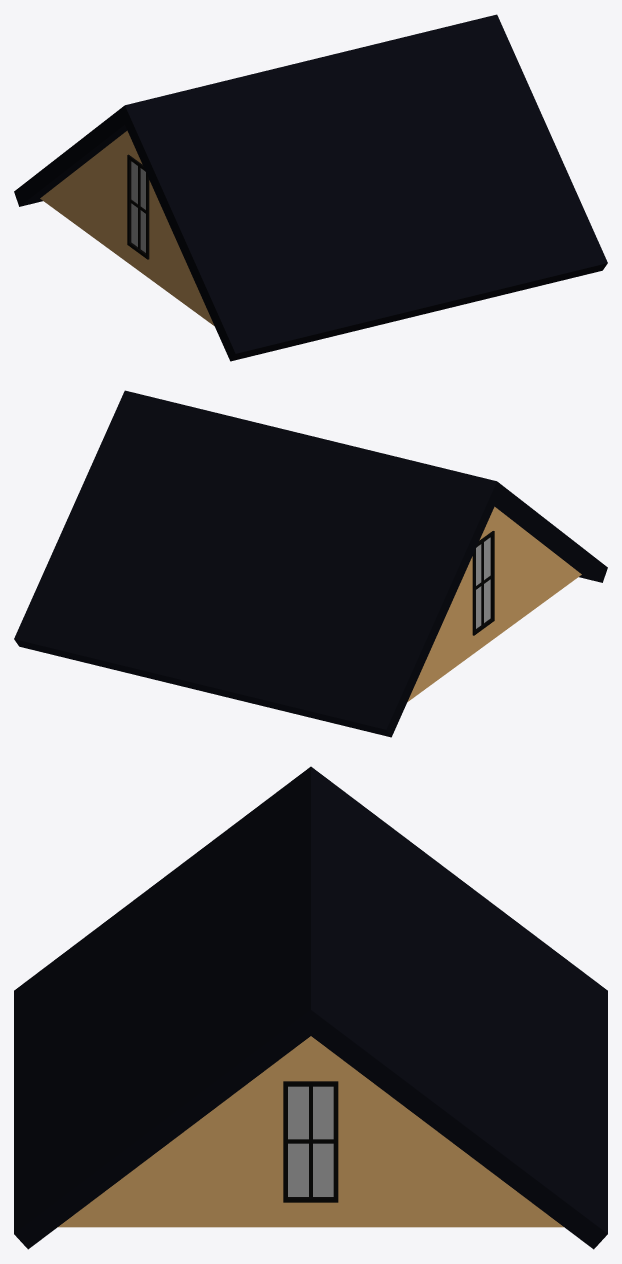
File: Prop_HouseRoof_01.FBX
3 views of the same model, one above another, from view 1: azimuth 30°, elevation 25°; view 2: azimuth 150°, elevation 25°; view 3: azimuth 270°, elevation 25° (orthographic). The views are drawn at different scales.
Visible parts, largest first — view 1: Prop_HouseRoof_01; view 2: Prop_HouseRoof_01; view 3: Prop_HouseRoof_01.
Boxes of the visible parts, bbox=[...] form: Prop_HouseRoof_01: bbox=[14, 14, 607, 361]; Prop_HouseRoof_01: bbox=[14, 390, 607, 737]; Prop_HouseRoof_01: bbox=[14, 766, 607, 1249].
Size of the model in its own units: 256 by 118 by 264.
